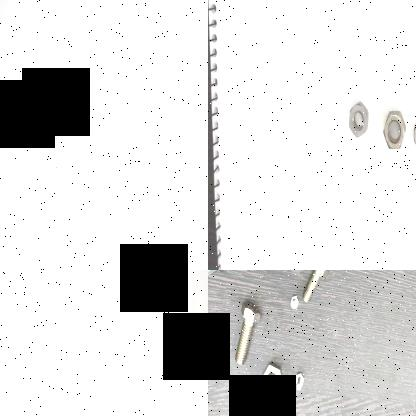Bolts: (231, 303, 261, 370), (258, 358, 286, 408), (301, 270, 329, 305), (292, 370, 307, 392), (208, 270, 230, 281)
NUTS: (382, 107, 406, 156), (346, 98, 372, 140), (411, 116, 416, 158)
